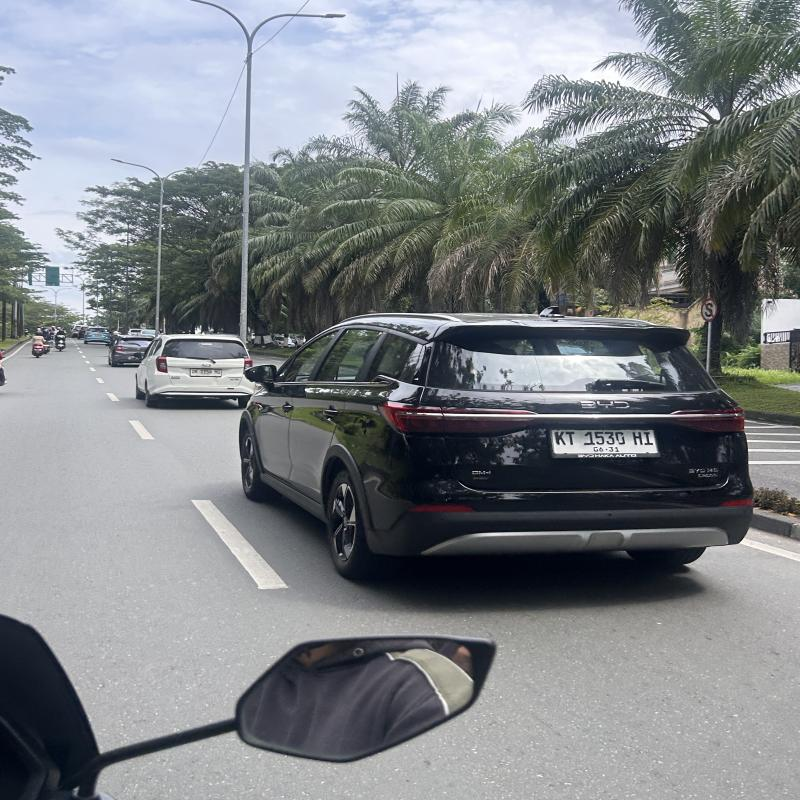license plate on a car: (551, 429, 661, 458), (190, 369, 221, 377)
